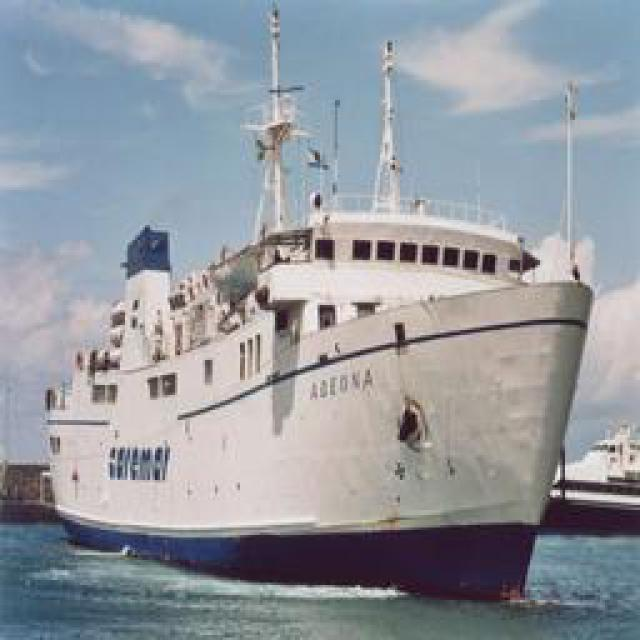Ship: (48, 26, 593, 594)
